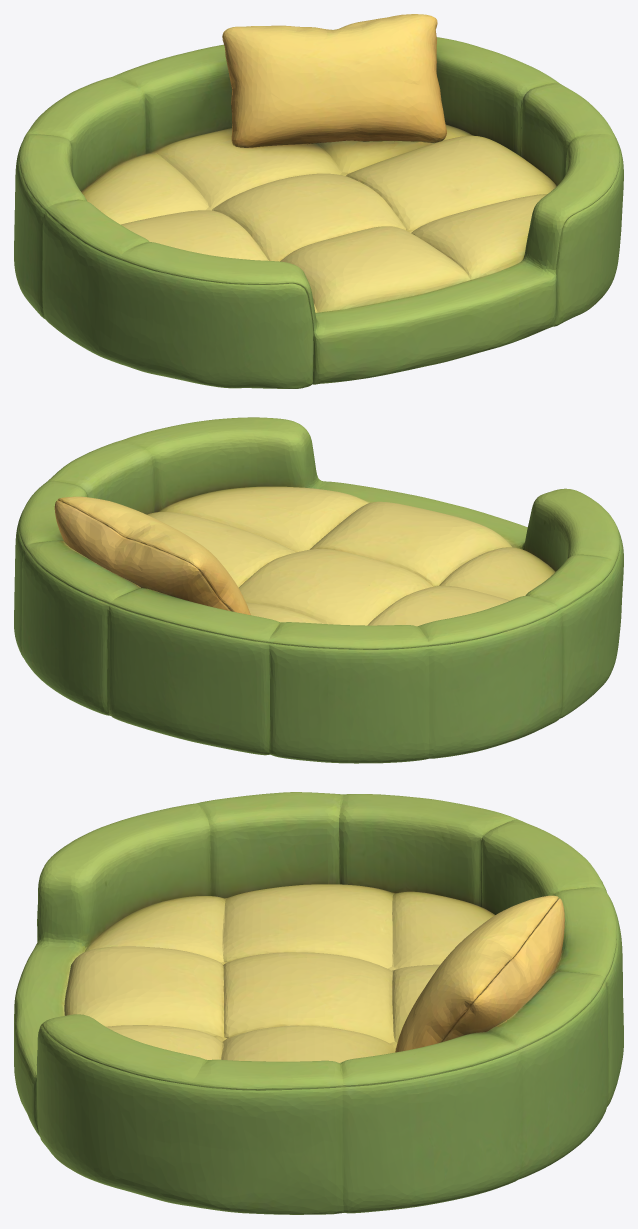
3 views of the same model, one above another, from view 1: azimuth 30°, elevation 25°; view 2: azimuth 150°, elevation 25°; view 3: azimuth 270°, elevation 25° (orthographic). The views are drawn at different scales.
Parts seen in each view (by area): view 1: tripo_node_d9f4d43c-a222-402b-9ff9-59990ac17f5e; view 2: tripo_node_d9f4d43c-a222-402b-9ff9-59990ac17f5e; view 3: tripo_node_d9f4d43c-a222-402b-9ff9-59990ac17f5e.
Boxes of the visible parts, x1,y1,x2,y2 form: tripo_node_d9f4d43c-a222-402b-9ff9-59990ac17f5e: (14,14,623,388); tripo_node_d9f4d43c-a222-402b-9ff9-59990ac17f5e: (14,417,623,763); tripo_node_d9f4d43c-a222-402b-9ff9-59990ac17f5e: (14,792,623,1214).
Bounding box in the file's own units: 0.9798 × 0.2925 × 0.8487.
Materials: 1 (1 with a texture image).
